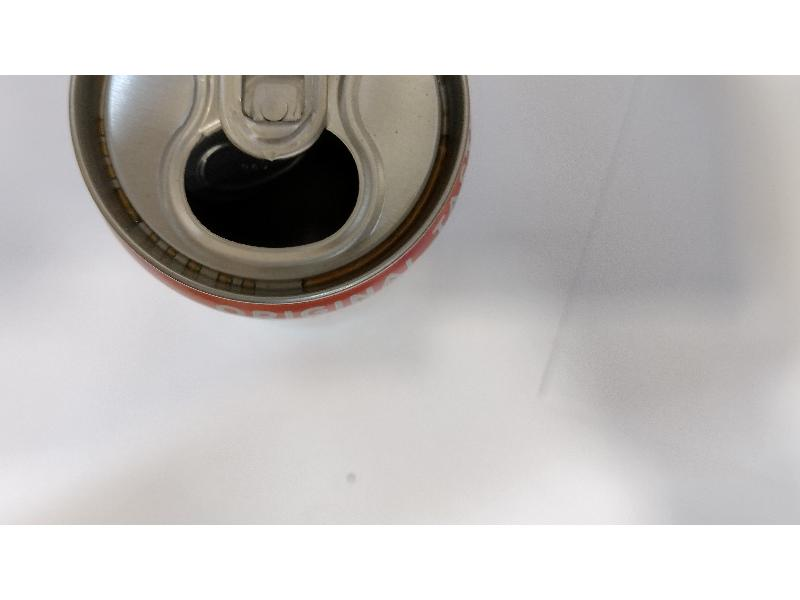can: (50, 74, 500, 332)
